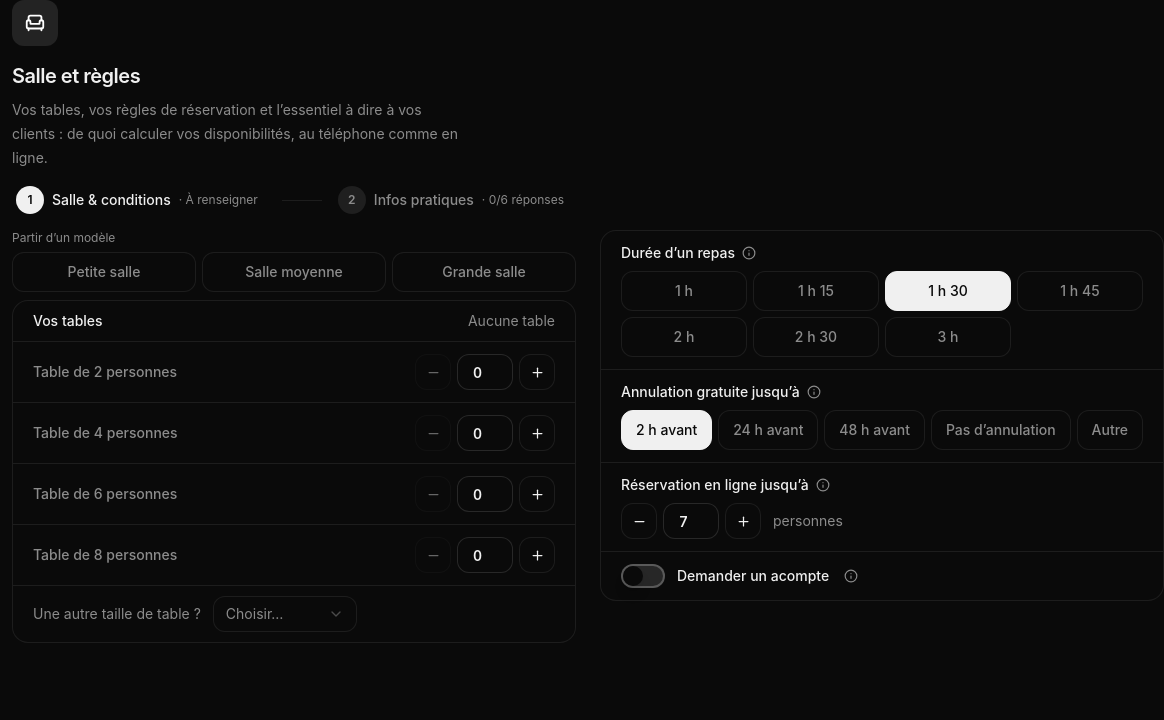
Test: règle la réservation en ligne avec le même compteur que les tables
The width and height of the screenshot is (1164, 720).
Expected: the button "1 Salle & conditions · À renseigner" is shown, [12,182,270,218]
Click the button named "Une table de 4 en plus". click: [537, 433]
box: [519,415,555,451]
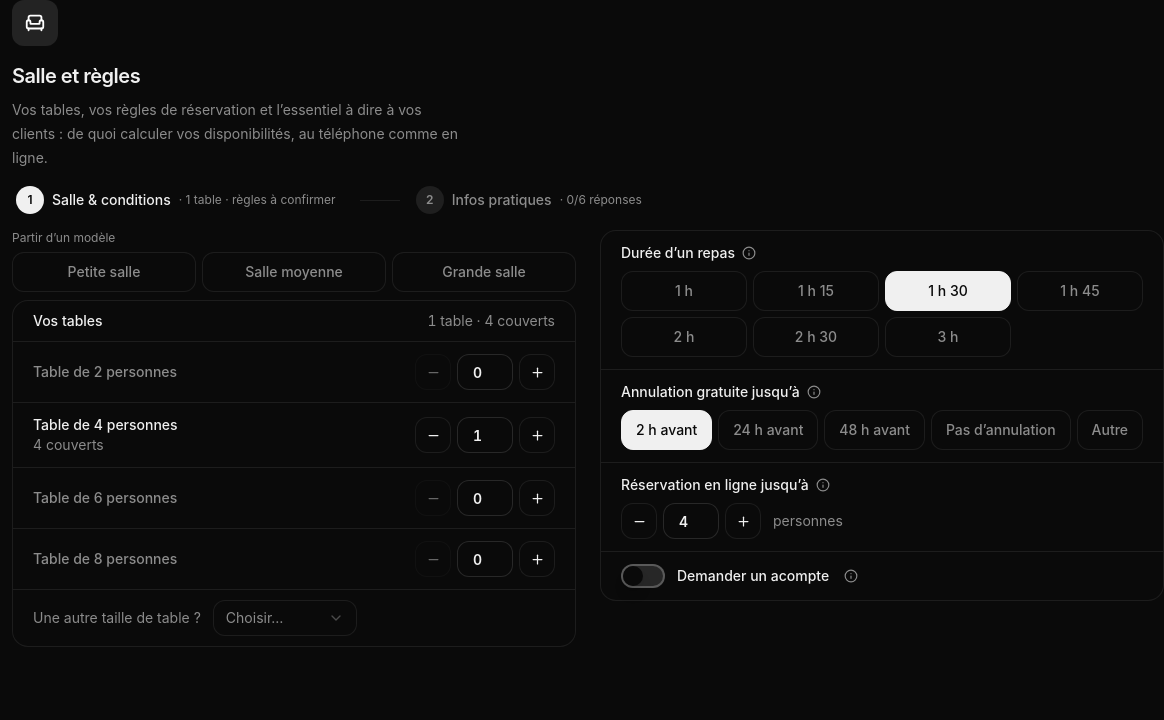
Expected: the number field named "Nombre maximum de personnes par réservation" holds "4", [663,503,719,539]
Click the button named "Une personne de plus". click: [743, 521]
box: [725,503,761,539]
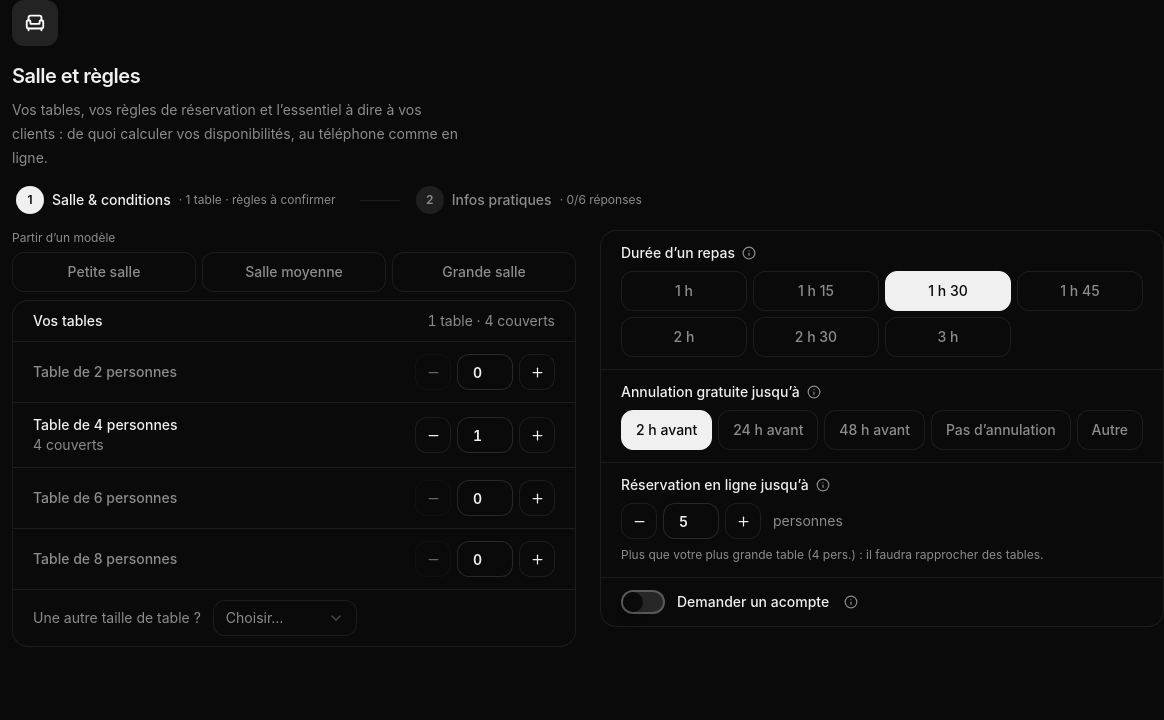
Expected: the number field named "Nombre maximum de personnes par réservation" holds "5", [663,503,719,539]
Expected: the text "il faudra rapprocher des tables" is shown, [820,547,1044,562]
Click the button named "Une personne de moins". click: [639, 521]
box: [621,503,657,539]
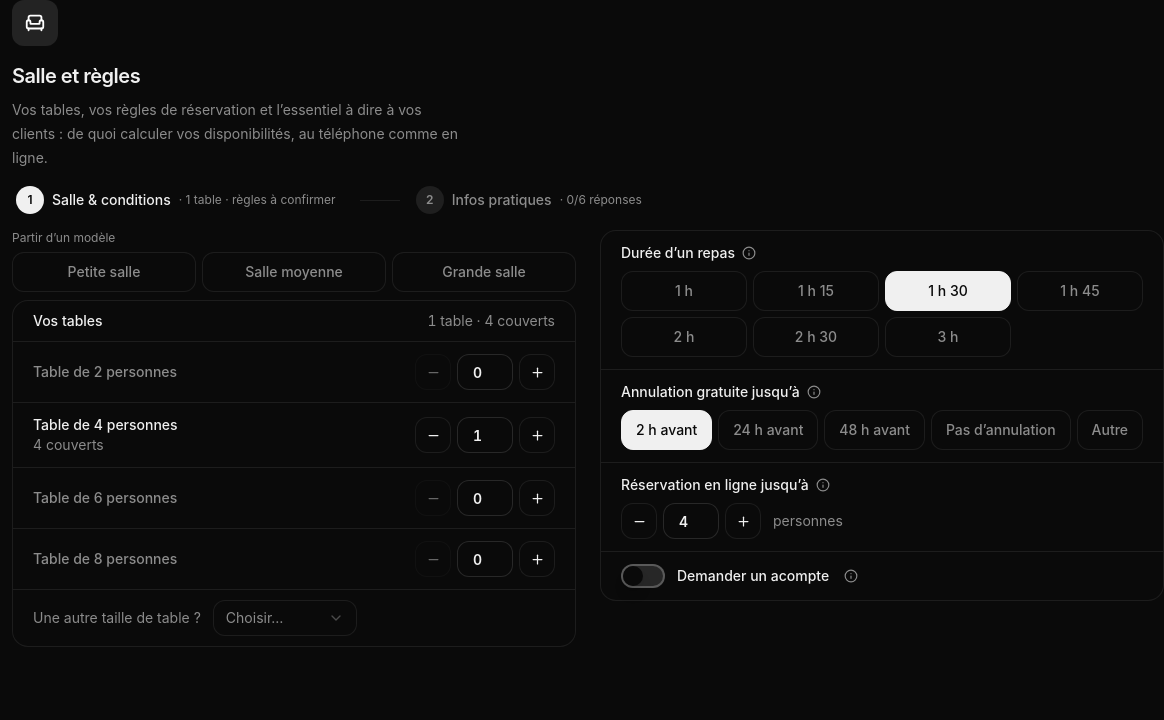
Expected: the number field named "Nombre maximum de personnes par réservation" holds "4", [663,503,719,539]
Expected: the text "il faudra rapprocher des tables" is gone
